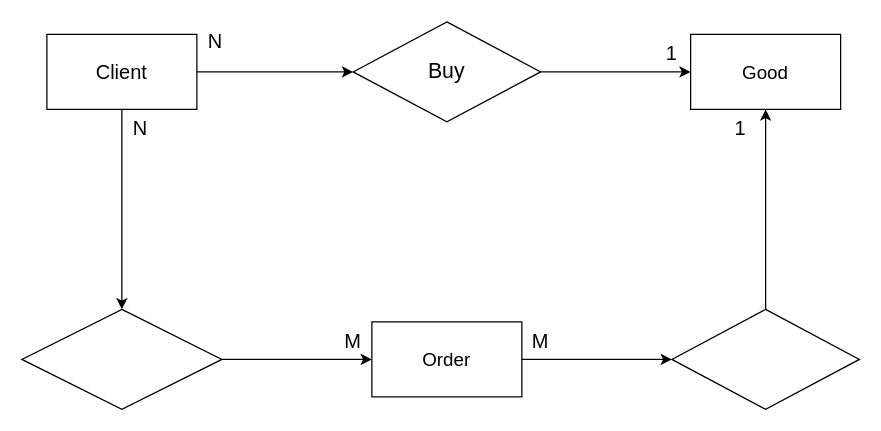
Image size: 881x431. Some labels were removed from this diagram. Here are the shapes that lost their labels. From the top down, the box of each, then its label:
(21, 308, 222, 409): Make
(671, 308, 859, 409): Enter
